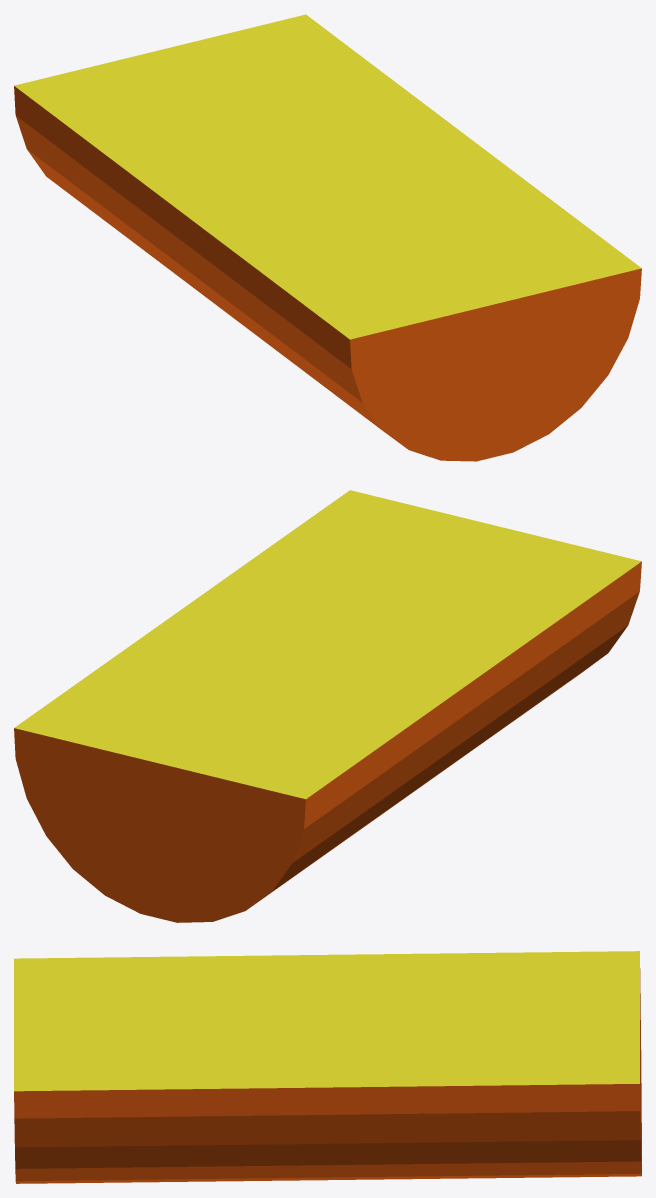
File: halfLog.fbx
3 views of the same model, one above another, from view 1: azimuth 30°, elevation 25°; view 2: azimuth 150°, elevation 25°; view 3: azimuth 270°, elevation 25° (orthographic). The views are drawn at different scales.
Visible parts, largest first — view 1: Cylinder; view 2: Cylinder; view 3: Cylinder.
Boxes of the visible parts, x1=… form: Cylinder: x1=14, y1=14, x2=641, y2=461; Cylinder: x1=14, y1=490, x2=641, y2=922; Cylinder: x1=14, y1=951, x2=641, y2=1183.
Bounding box in the file's own units: 171 × 90.61 × 342.
